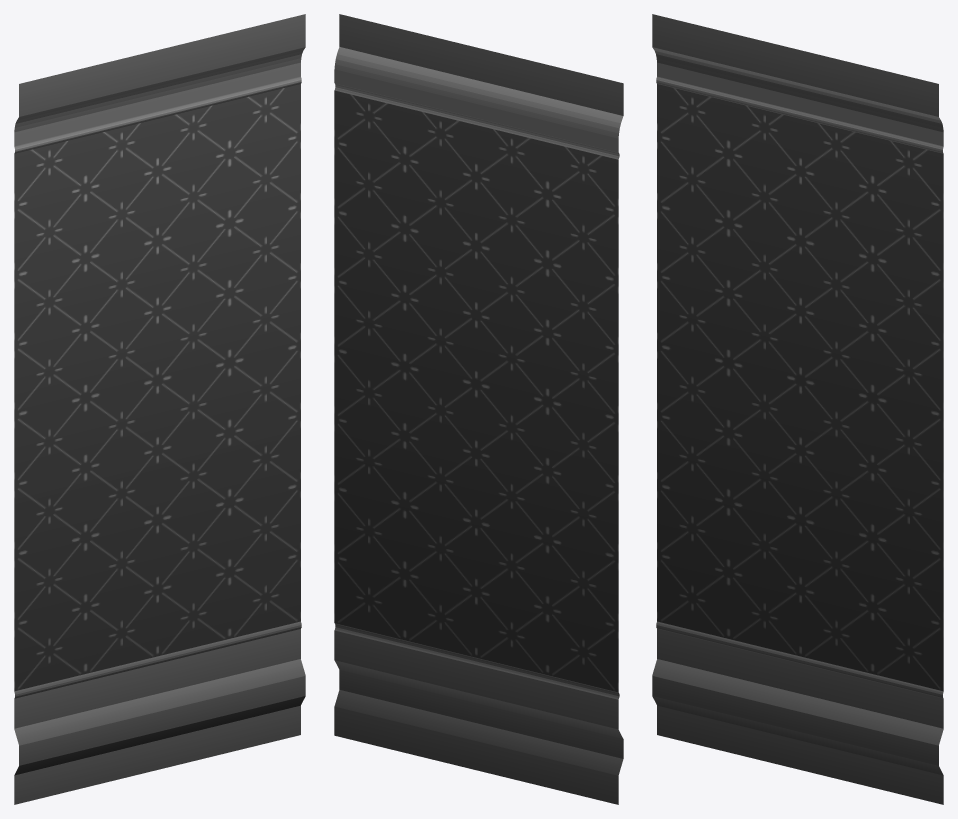
The model's file is Wall_02_Single_Extra_Light.fbx.
3 views of the same model, side by side, from view 1: azimuth 30°, elevation 25°; view 2: azimuth 150°, elevation 25°; view 3: azimuth 330°, elevation 25° (orthographic).
Parts seen in each view (by area): view 1: Wall_02_Single_Extra_Light; view 2: Wall_02_Single_Extra_Light; view 3: Wall_02_Single_Extra_Light.
Boxes of the visible parts, x1=… form: Wall_02_Single_Extra_Light: x1=14, y1=14, x2=305, y2=804; Wall_02_Single_Extra_Light: x1=334, y1=14, x2=623, y2=804; Wall_02_Single_Extra_Light: x1=652, y1=14, x2=943, y2=804.
Bounding box in the file's own units: 1.1 × 2.65 × 0.0329.
